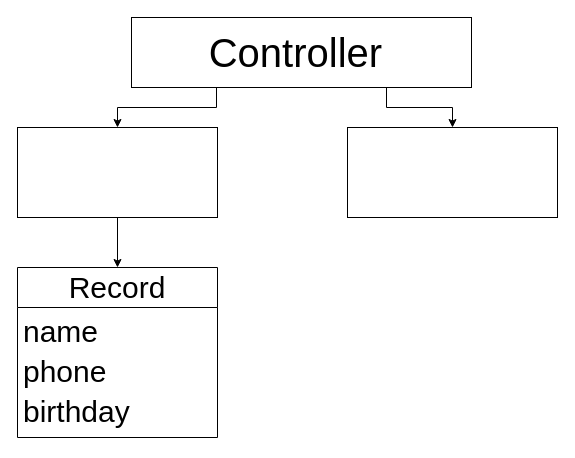
This 575x458 diagram has some shape labels left out. The shapes that lost their labels are listed below. From the top down, each one's centre as x and y in pixels, then its label:
At (117,172): "AddressBook (MODEL)".
At (452,172): "ConsoleView (VIEW)".
